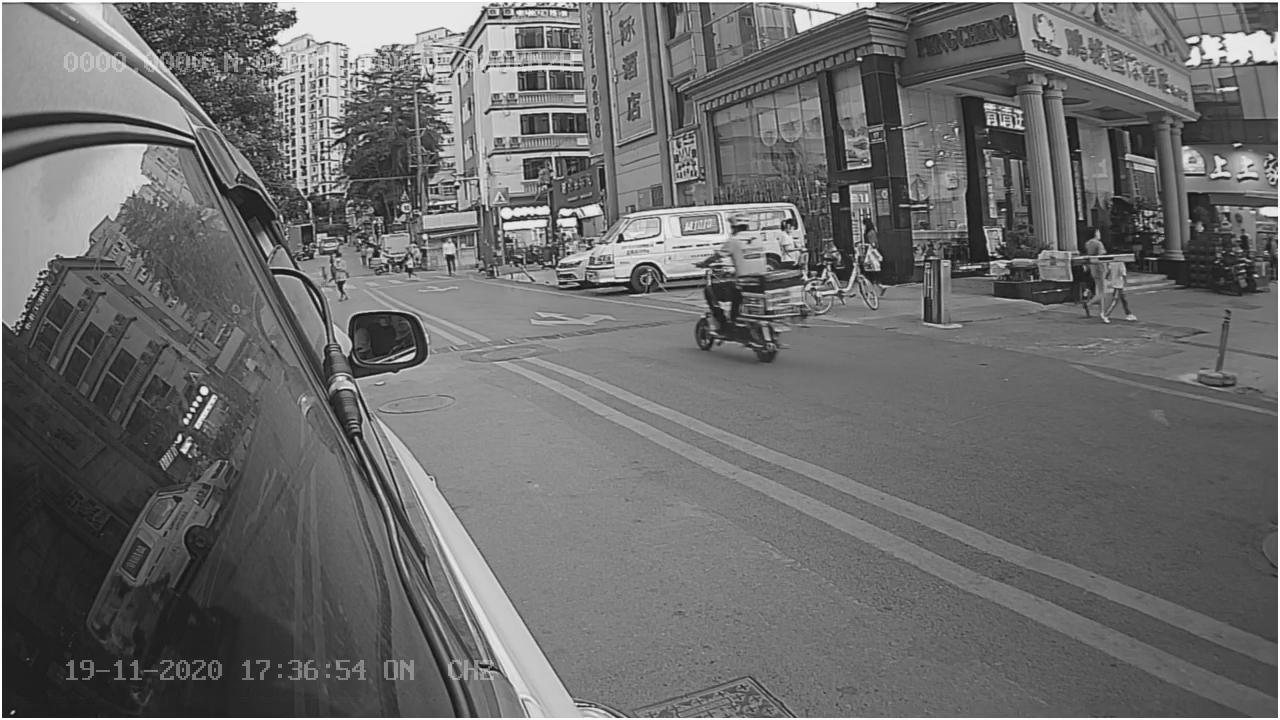person: (699, 212, 770, 266)
